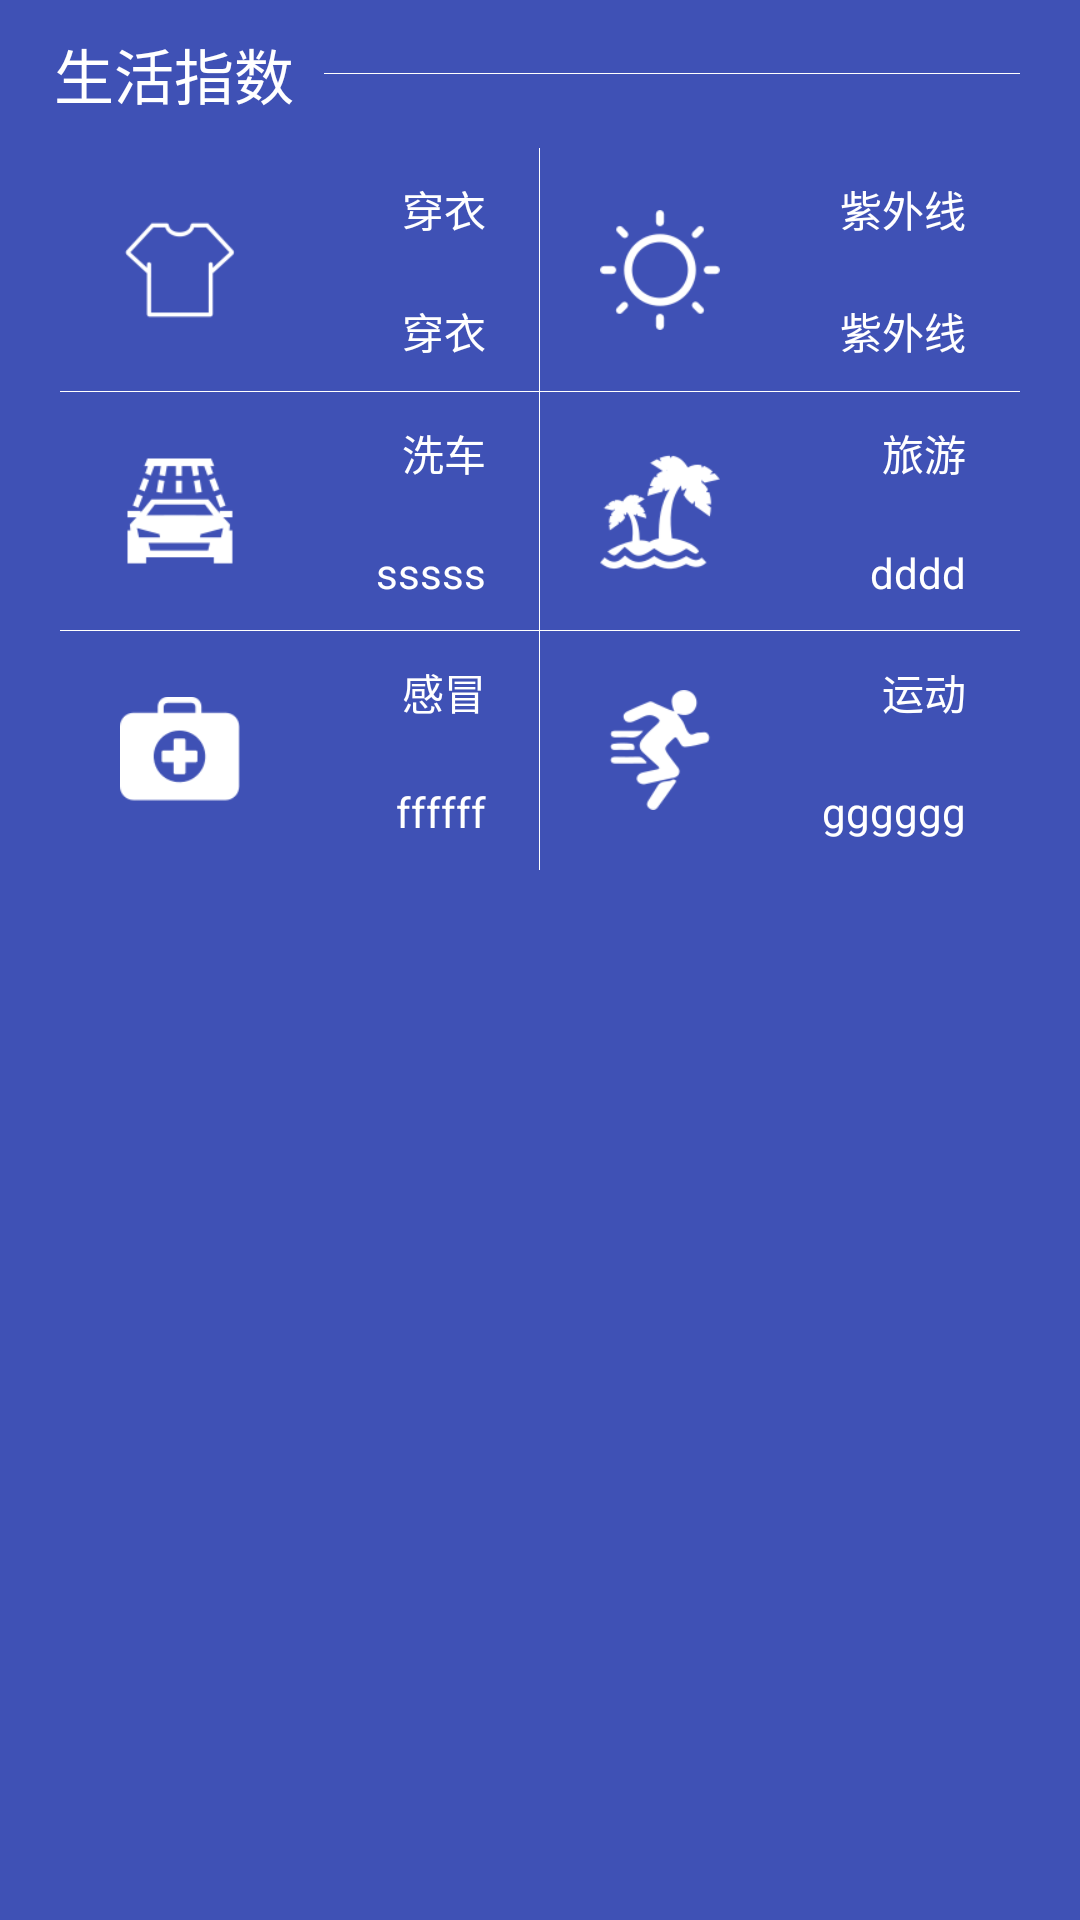

Where to tap for icons on this 1080px x 1920px app screen, as [x,y]:
chuanyi: [179,270]
ganmao: [180,749]
lvyou: [660,512]
xiche: [180,511]
yundong: [660,750]
ziwaixian: [660,270]
